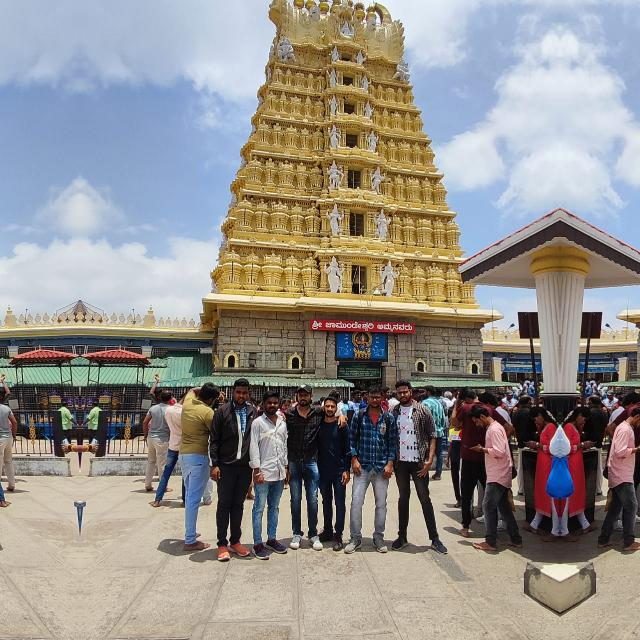person: (386, 369, 446, 537), (252, 394, 298, 570), (216, 374, 262, 538), (466, 408, 516, 544), (352, 382, 396, 530), (287, 382, 325, 540), (603, 408, 640, 544), (322, 383, 350, 551)
